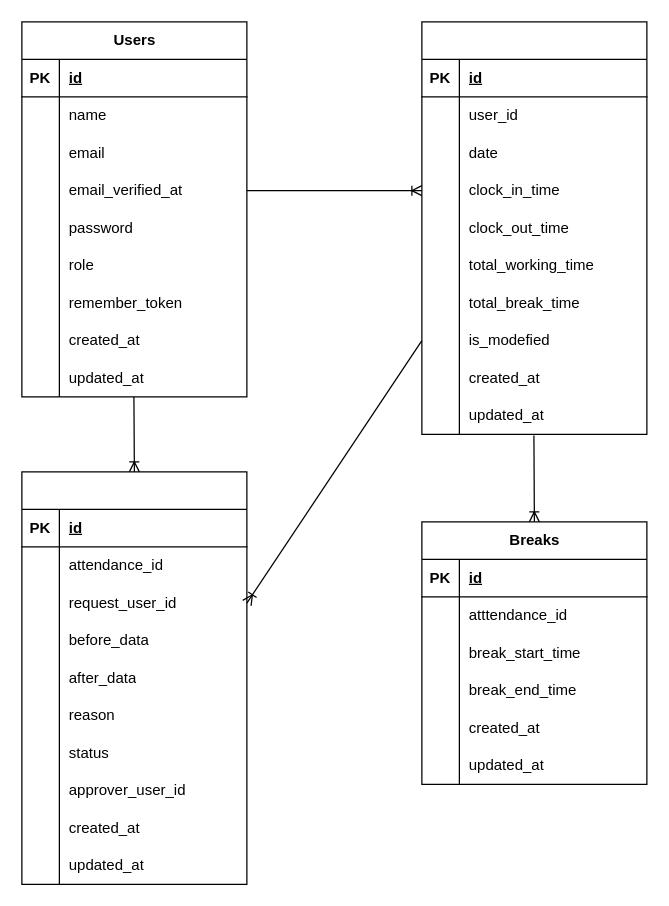
Image size: 669x906. Some labels were removed from this diagram. The shapes that lost their labels are listed below. From the top down, each one's box as (x1, y1, x2, y2) in pixels, then its label:
(421, 21, 647, 434): Attendance
(21, 471, 247, 884): Attendance_Requests
